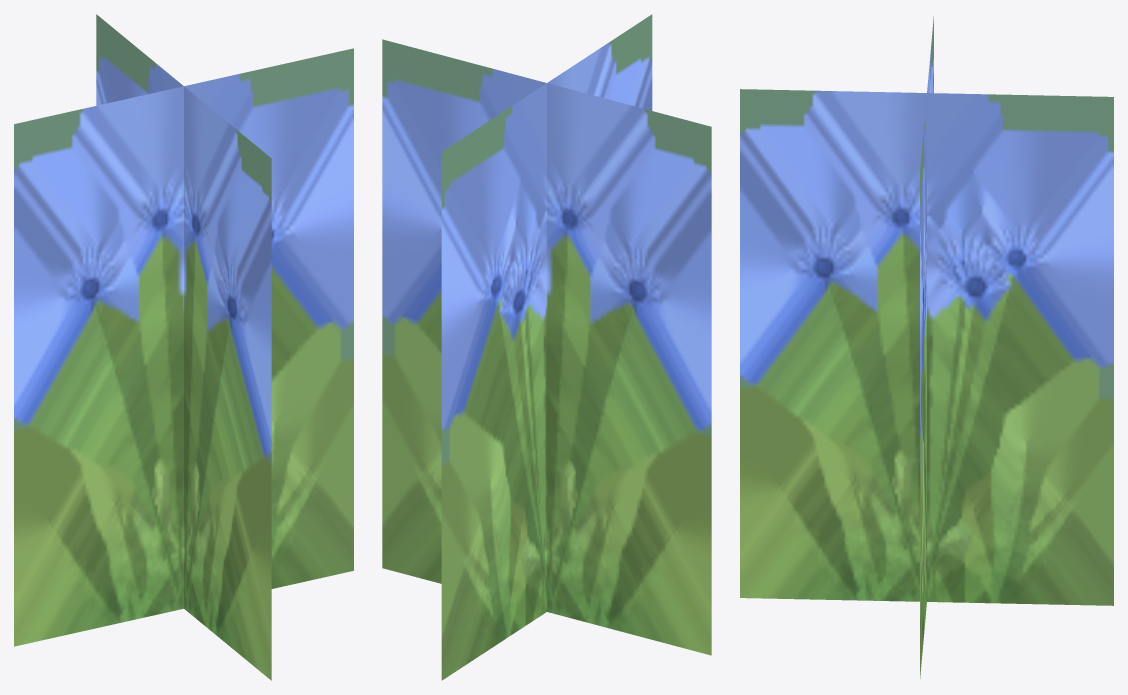
The model's file is flower_cornflower.glb.
3 views of the same model, side by side, from view 1: azimuth 30°, elevation 25°; view 2: azimuth 150°, elevation 25°; view 3: azimuth 270°, elevation 25° (orthographic). The views are drawn at different scales.
Visible parts, largest first — view 1: flower_cornflower; view 2: flower_cornflower; view 3: flower_cornflower.
Part boxes in pixels (box(x1,y1,x2,y2)): flower_cornflower: box(14, 14, 353, 680); flower_cornflower: box(382, 14, 711, 680); flower_cornflower: box(740, 16, 1113, 678).
Size of the model in its own units: 0.1799 by 0.27 by 0.1798.
1 material, 1 textured.
